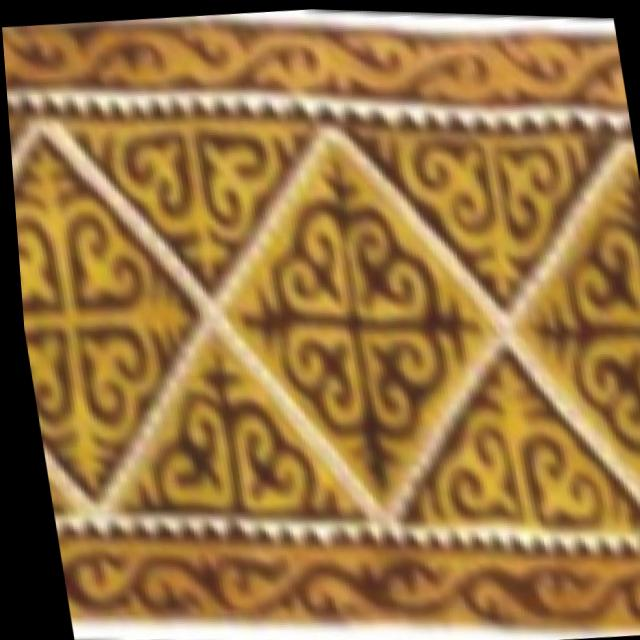Unity: (226, 143, 494, 500), (15, 145, 195, 498), (520, 157, 640, 472)
